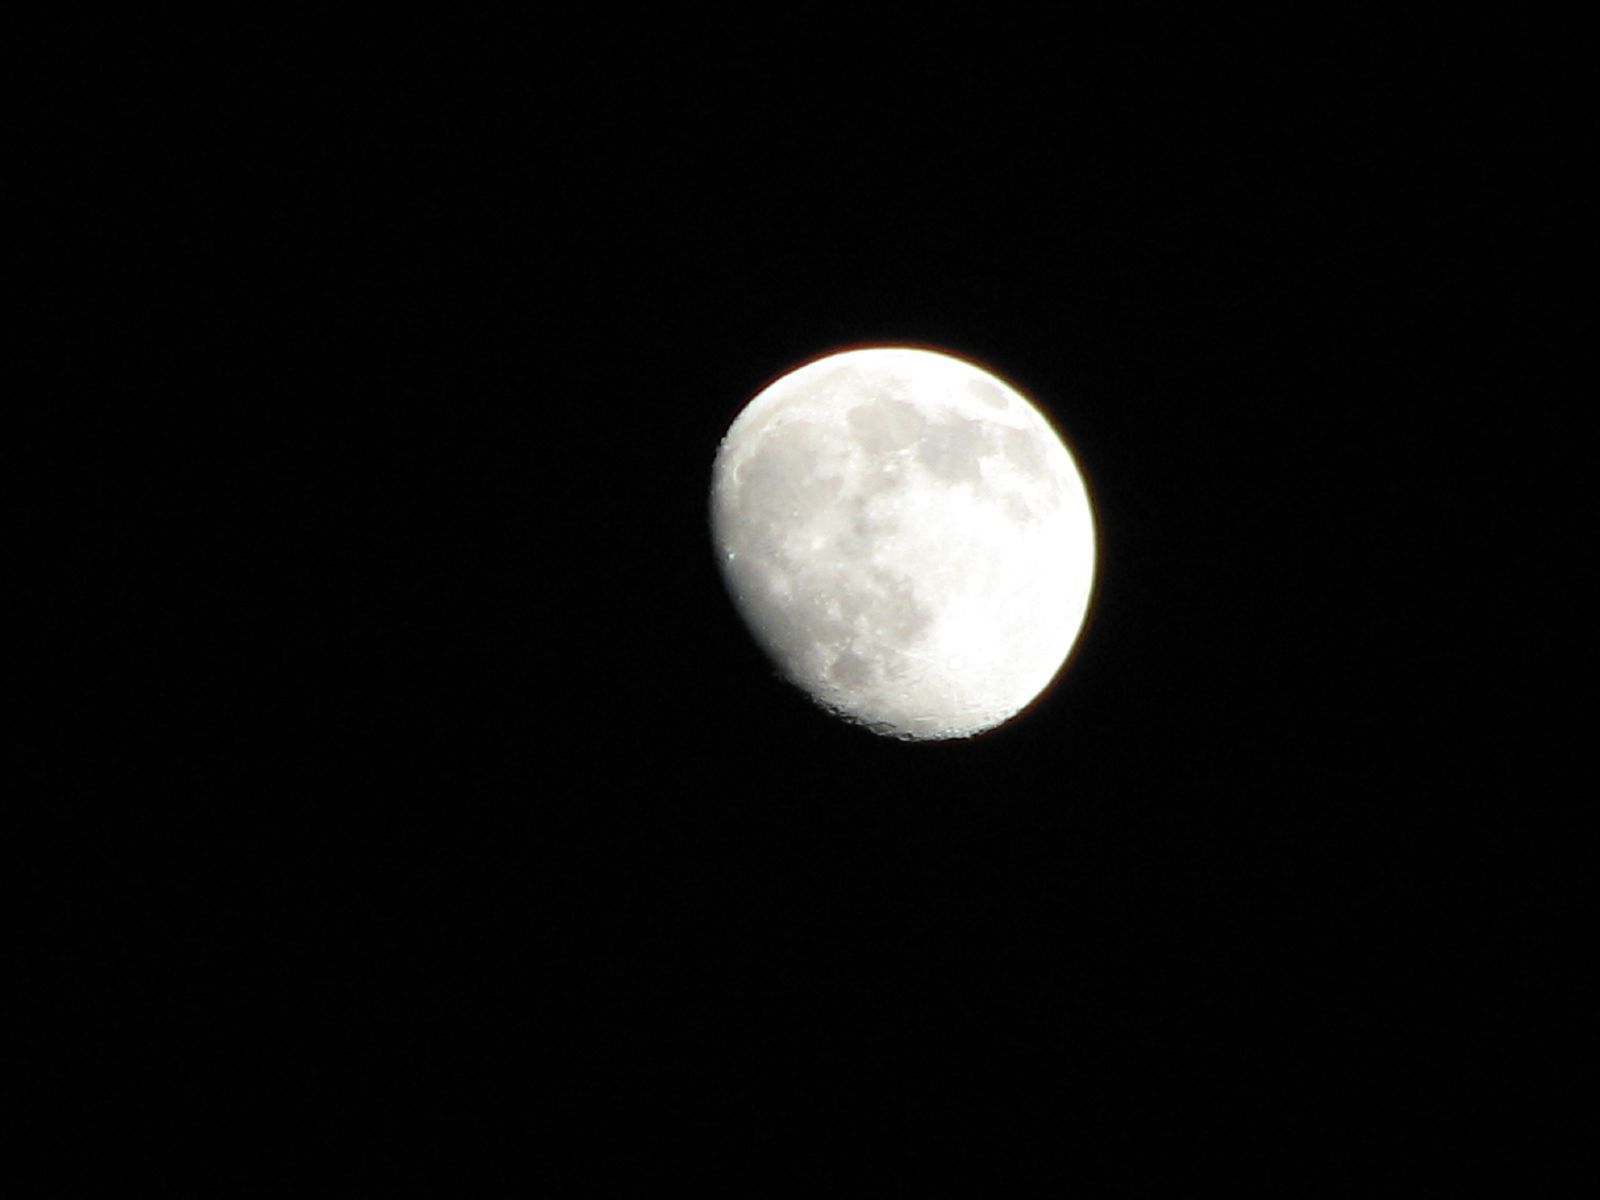crater: (820, 645, 889, 702), (789, 516, 847, 561), (893, 436, 918, 466)
